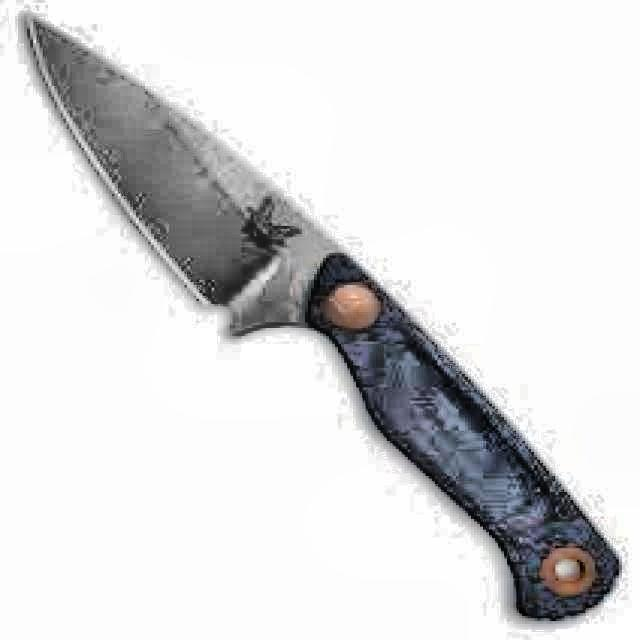knife: (19, 11, 618, 619)
